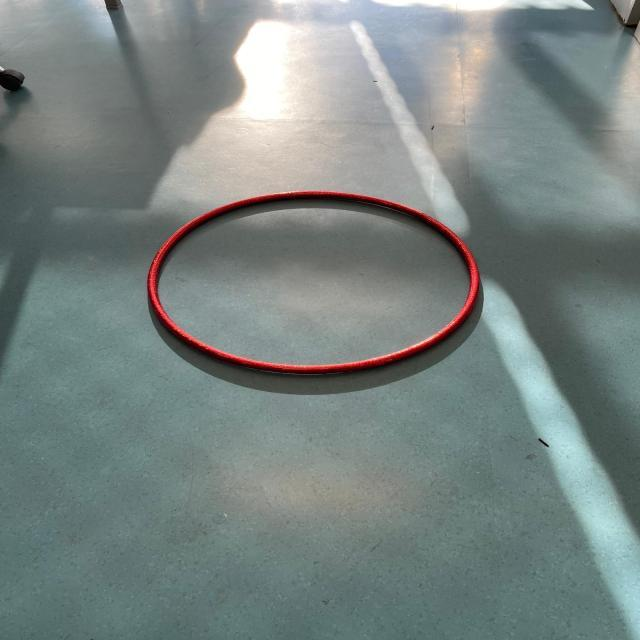Circle: (139, 185, 487, 378)
